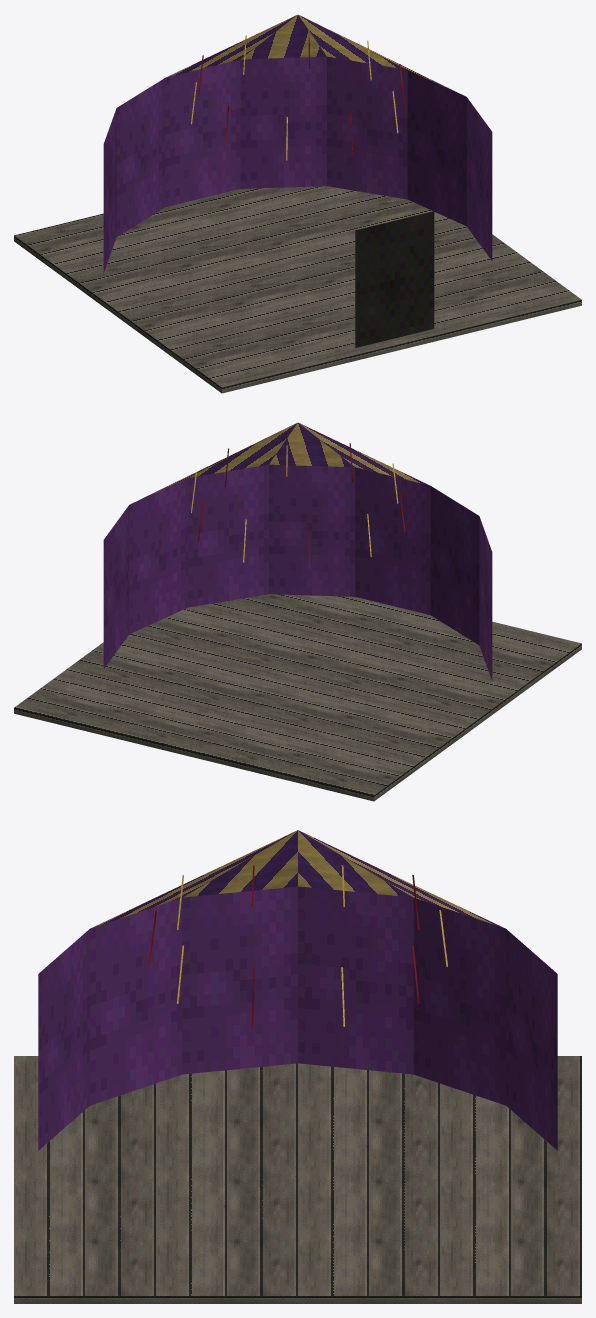
File: carpa_interior.obj
3 views of the same model, one above another, from view 1: azimuth 30°, elevation 25°; view 2: azimuth 150°, elevation 25°; view 3: azimuth 270°, elevation 25° (orthographic). The views are drawn at different scales.
Visible parts, largest first — view 1: carpa_interior; view 2: carpa_interior; view 3: carpa_interior.
Boxes of the visible parts, x1,y1,x2,y2 form: carpa_interior: [14, 14, 581, 393]; carpa_interior: [14, 422, 581, 801]; carpa_interior: [14, 830, 581, 1303].
Size of the model in its own units: 6.4 by 4.4 by 6.4.
6 materials, 6 textured.
